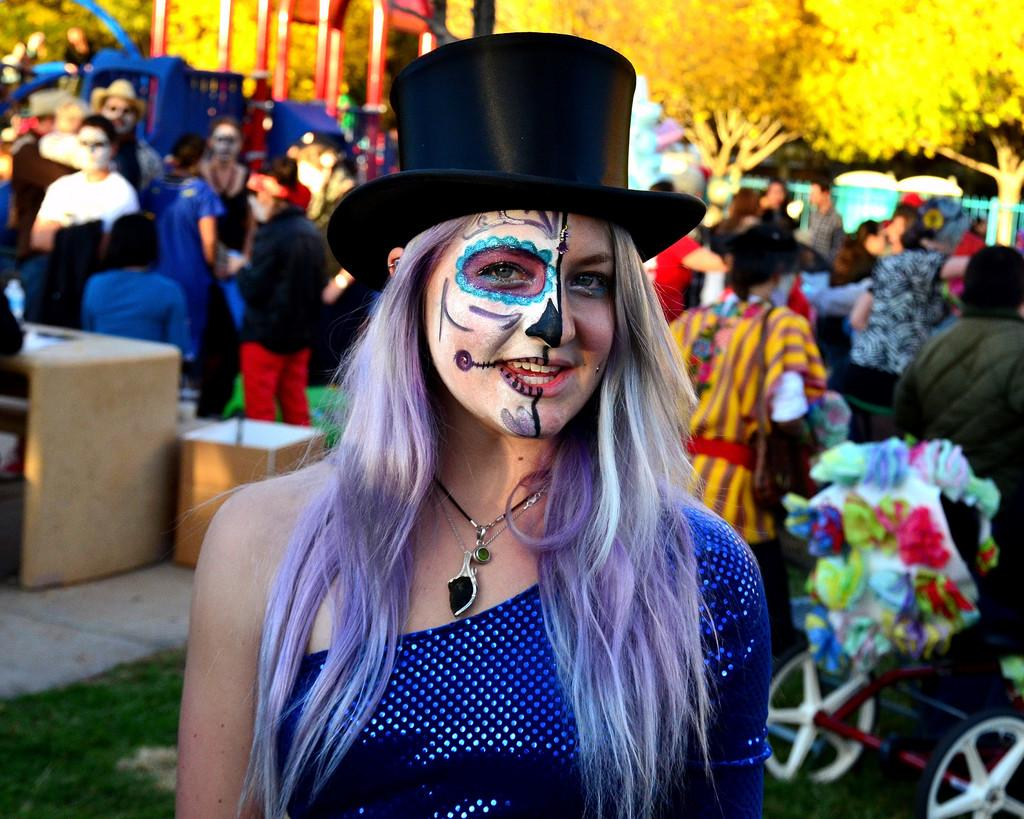Hat: (322, 34, 708, 294), (710, 228, 825, 270), (89, 77, 147, 128)
